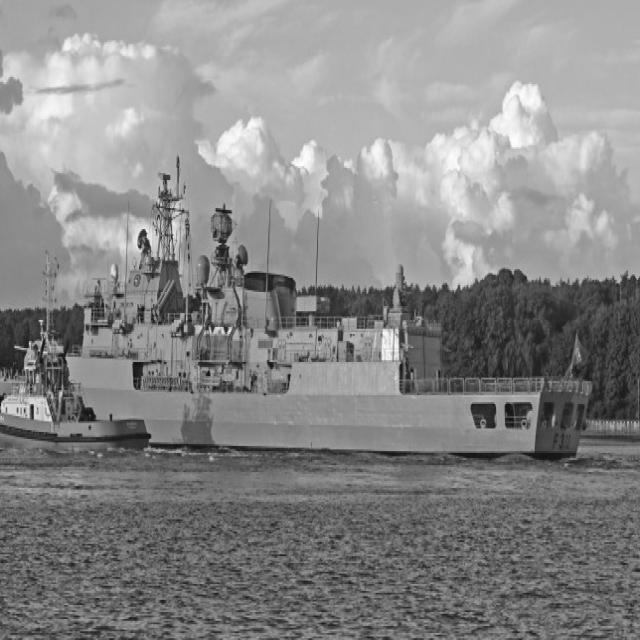Fragata: (1, 165, 599, 450)
